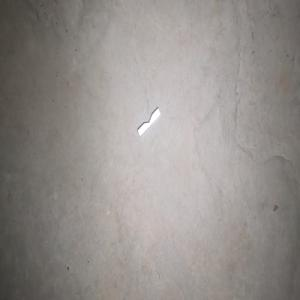ClampPart: (137, 106, 161, 137)
